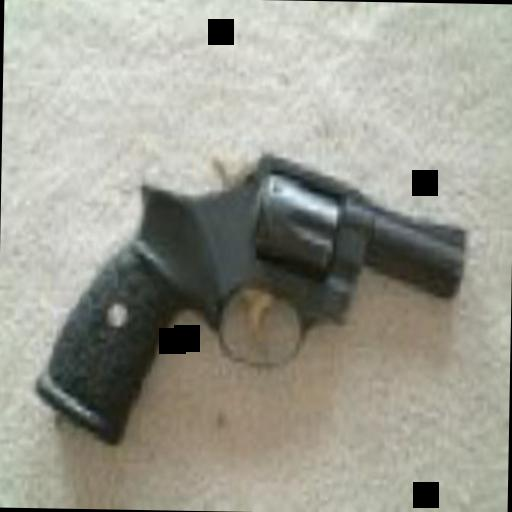Handgun: (30, 144, 458, 458)
